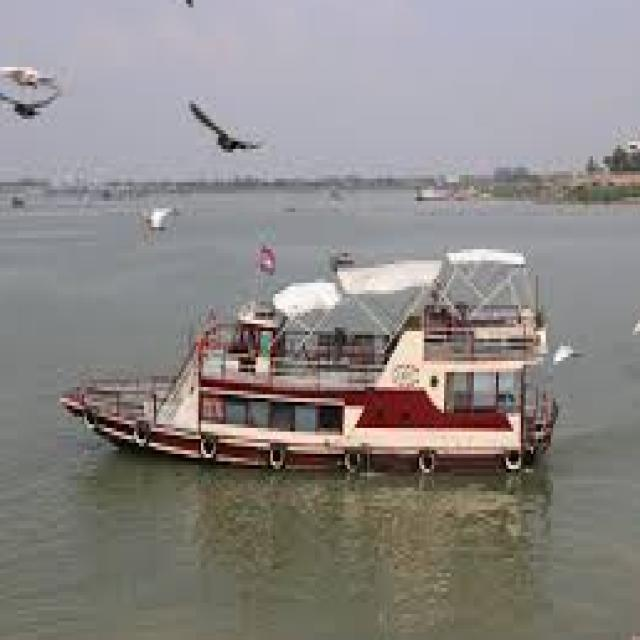houseboat: (74, 214, 548, 493)
